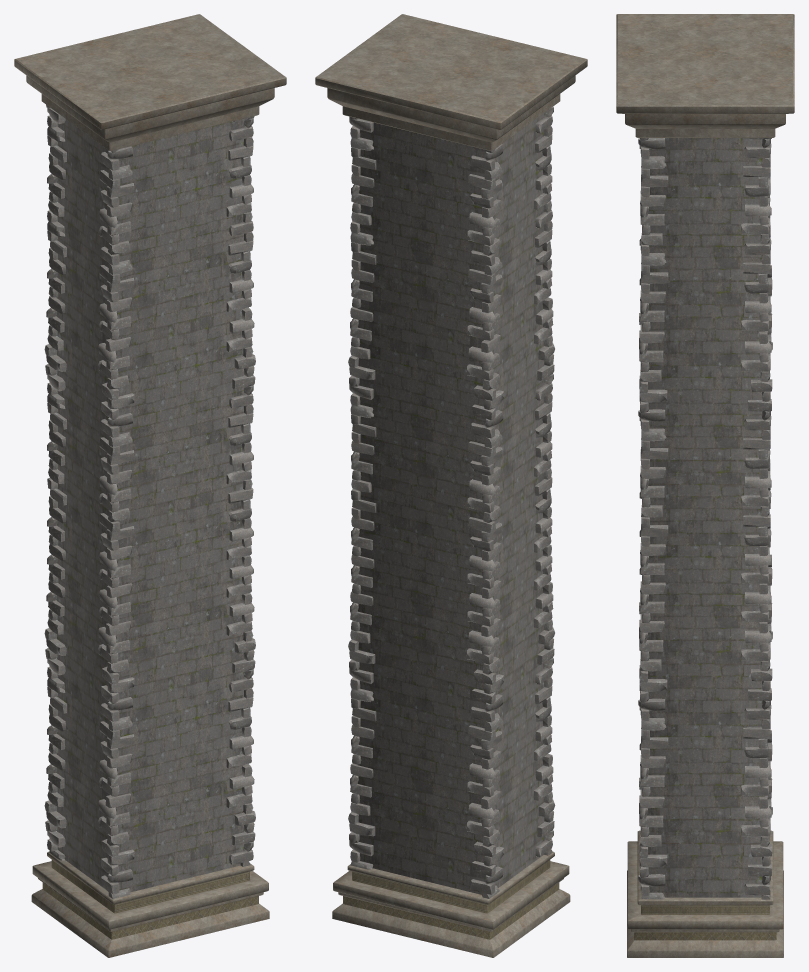
The model's file is SM_Big_support_pillar.fbx.
The picture shows the model from 3 angles, left to right: view 1: azimuth 30°, elevation 25°; view 2: azimuth 150°, elevation 25°; view 3: azimuth 270°, elevation 25°; orthographic projection.
Visible parts, largest first — view 1: SM_Big_support_pillar_LOD0; view 2: SM_Big_support_pillar_LOD0; view 3: SM_Big_support_pillar_LOD0.
Part boxes in pixels (x1,y1,x2,y2): SM_Big_support_pillar_LOD0: [14, 14, 286, 957]; SM_Big_support_pillar_LOD0: [315, 14, 587, 957]; SM_Big_support_pillar_LOD0: [616, 14, 794, 957].
Bounding box in the file's own units: 450 × 366 × 1945.
